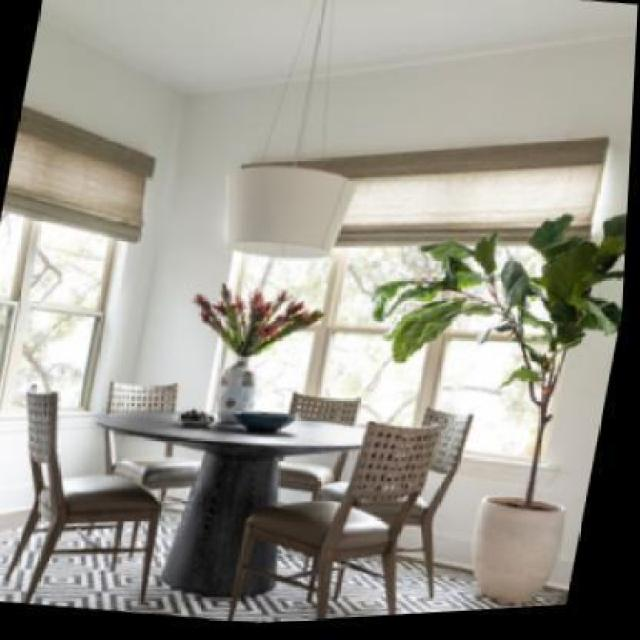tables: (94, 408, 368, 598)
